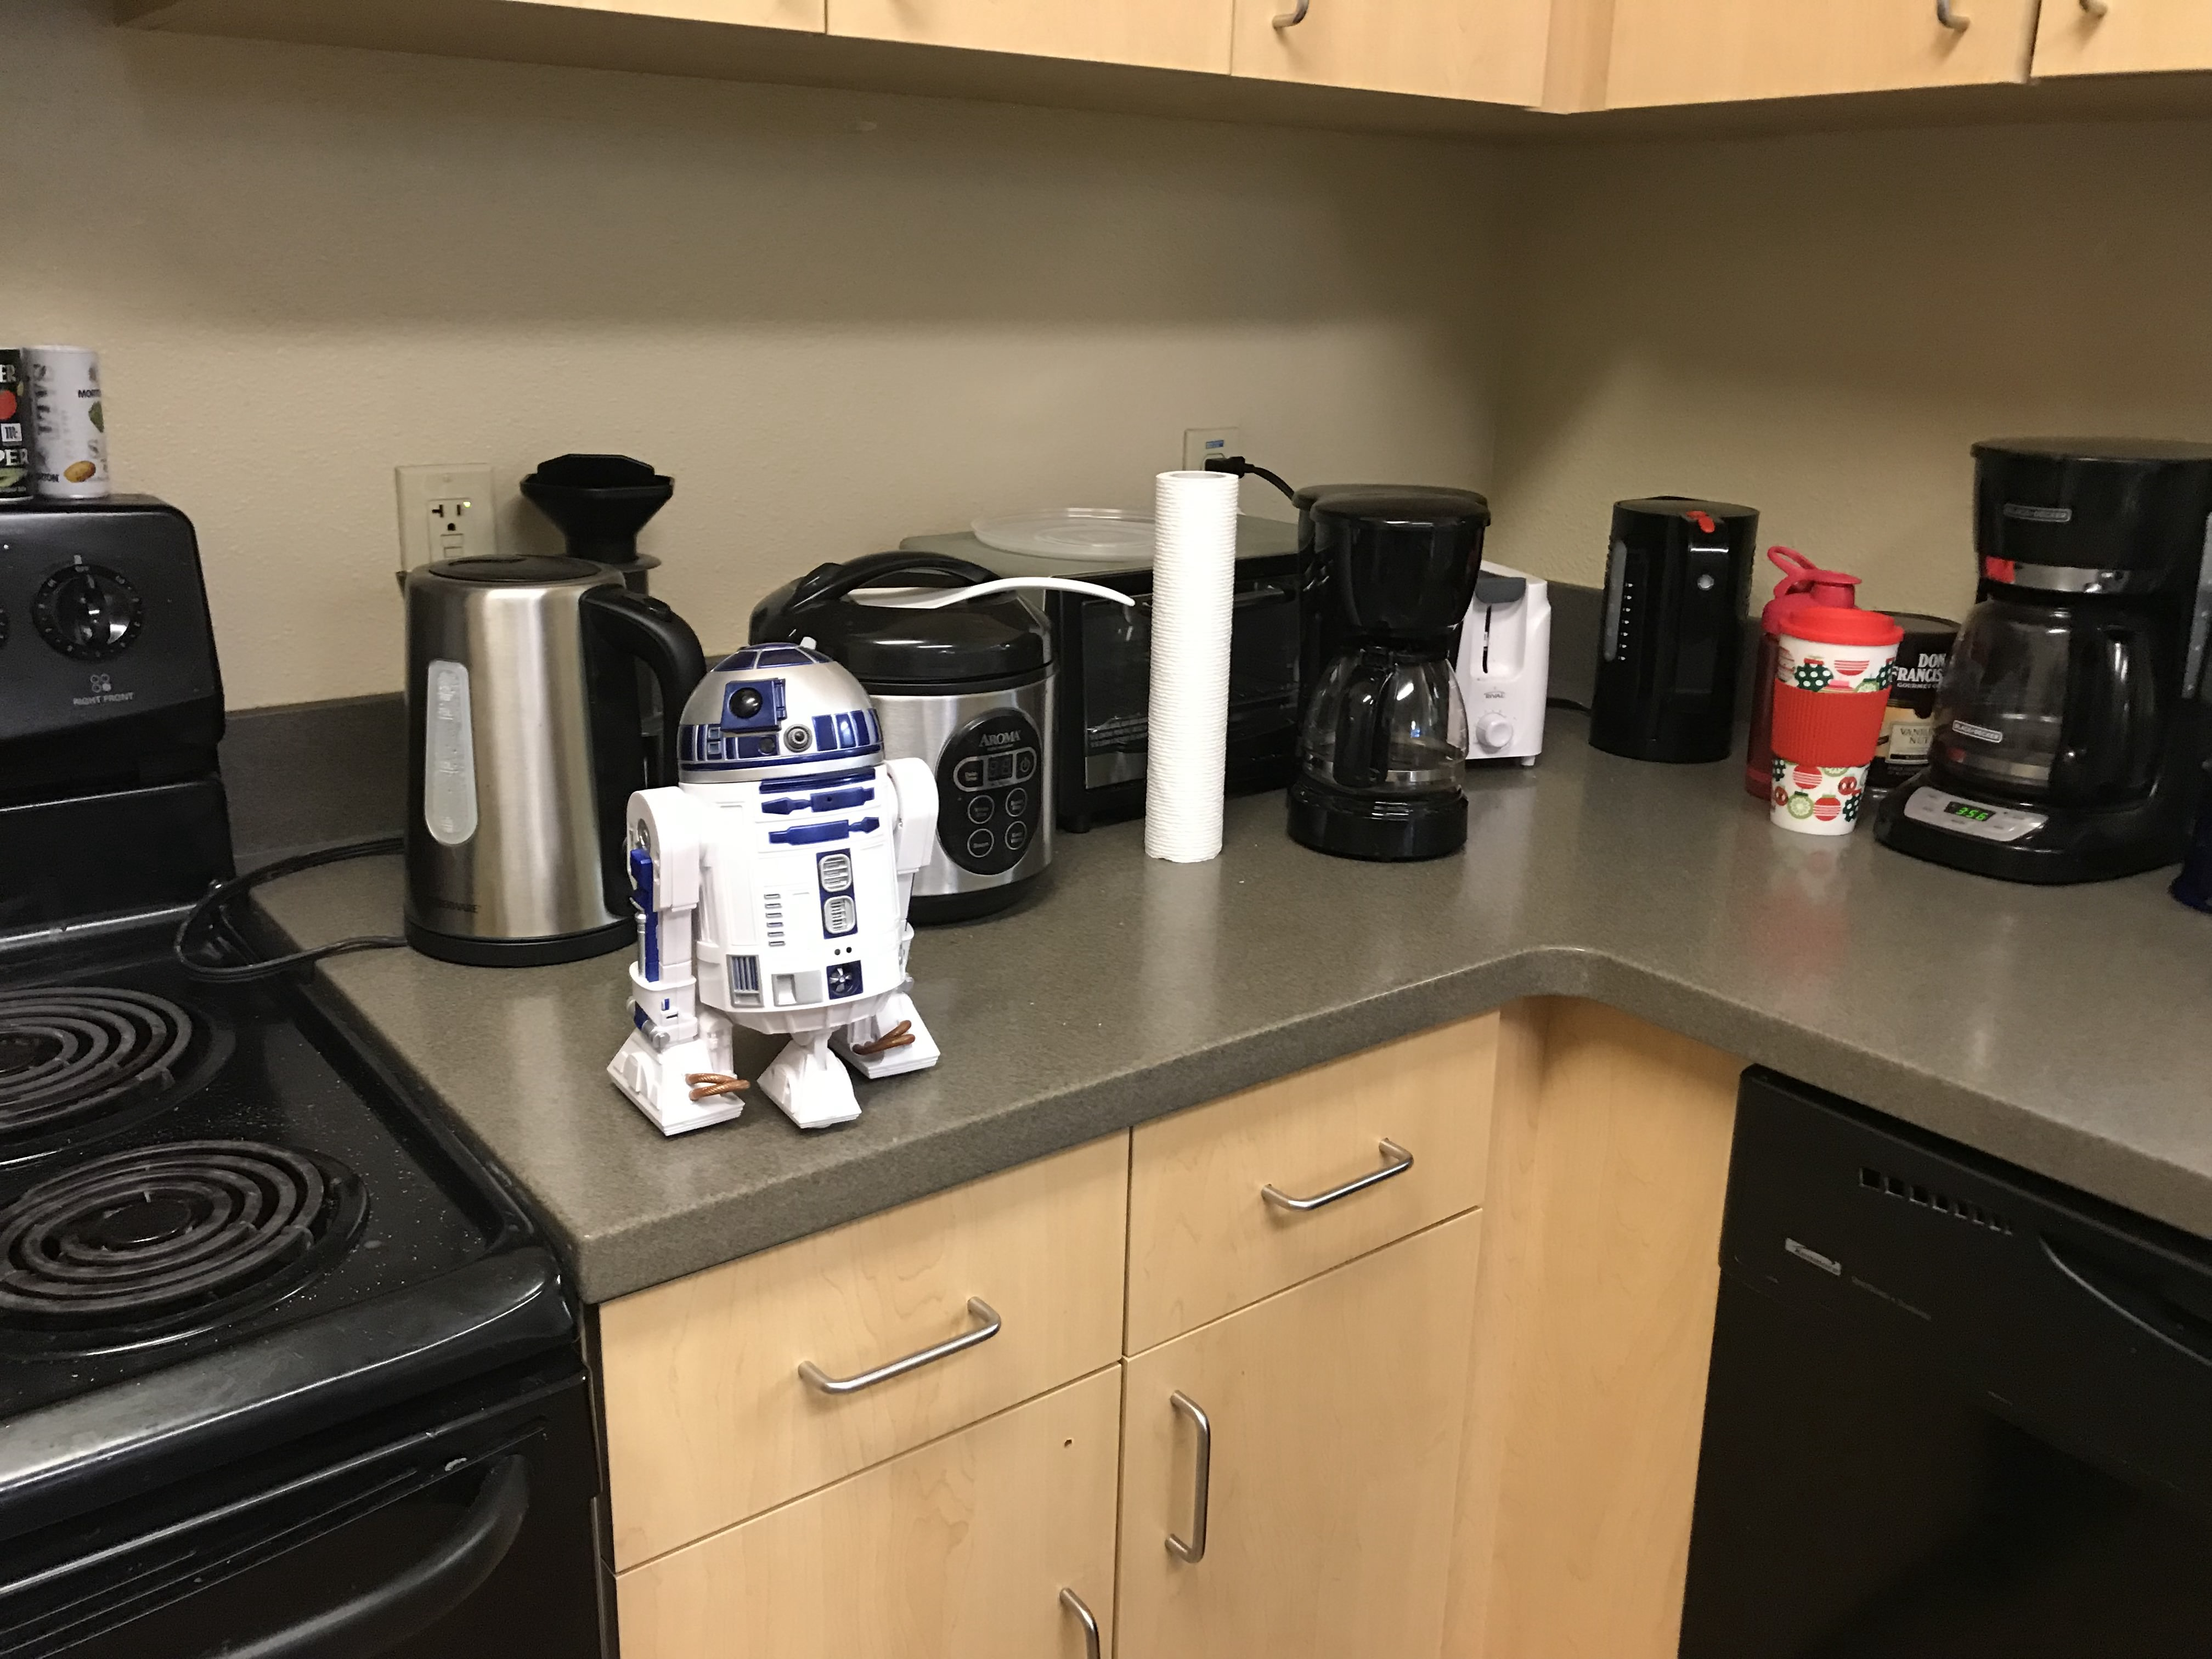r2d2: (610, 640, 942, 1141)
